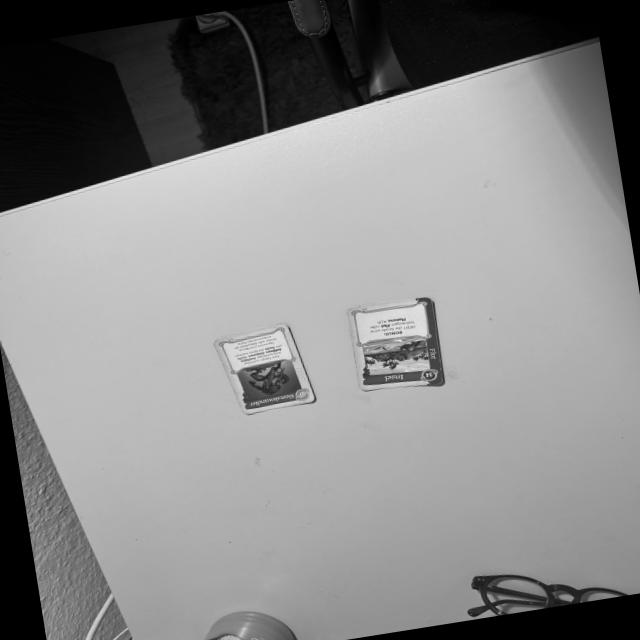Island: (348, 297, 443, 391)
Shapeshifter: (215, 322, 316, 415)
